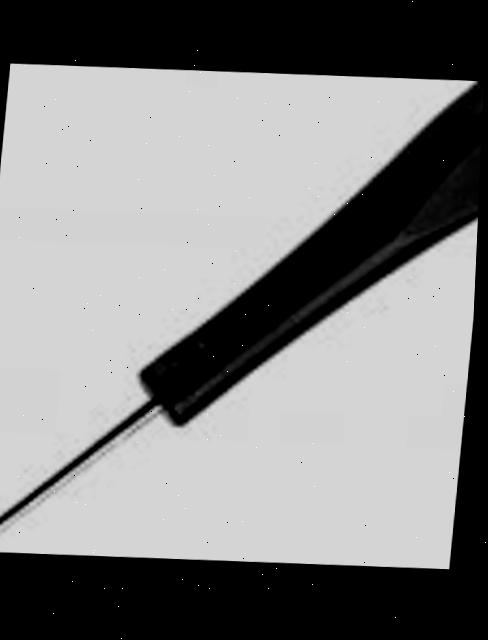ice pick: (0, 57, 486, 576)
